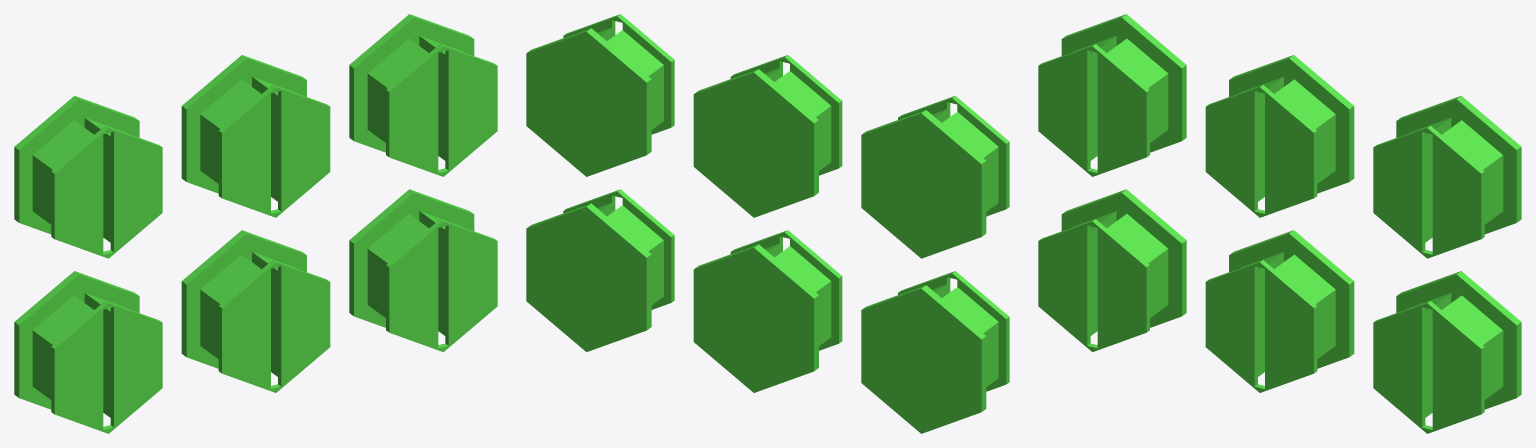
File: hexclips-plus1.glb
3 renders of one model, left to right at view 1: azimuth 30°, elevation 25°; view 2: azimuth 150°, elevation 25°; view 3: azimuth 330°, elevation 25°, orthographic.
Visible parts, largest first — view 1: 02_SECHS_CLIPS_EINRASTKRAGEN_10P34_PLUS1MM.stl; view 2: 02_SECHS_CLIPS_EINRASTKRAGEN_10P34_PLUS1MM.stl; view 3: 02_SECHS_CLIPS_EINRASTKRAGEN_10P34_PLUS1MM.stl.
Boxes of the visible parts, bbox=[...] form: 02_SECHS_CLIPS_EINRASTKRAGEN_10P34_PLUS1MM.stl: bbox=[14, 14, 497, 433]; 02_SECHS_CLIPS_EINRASTKRAGEN_10P34_PLUS1MM.stl: bbox=[526, 14, 1009, 433]; 02_SECHS_CLIPS_EINRASTKRAGEN_10P34_PLUS1MM.stl: bbox=[1038, 14, 1521, 433].
Bounding box in the file's own units: 43.5 × 29.28 × 5.65.
